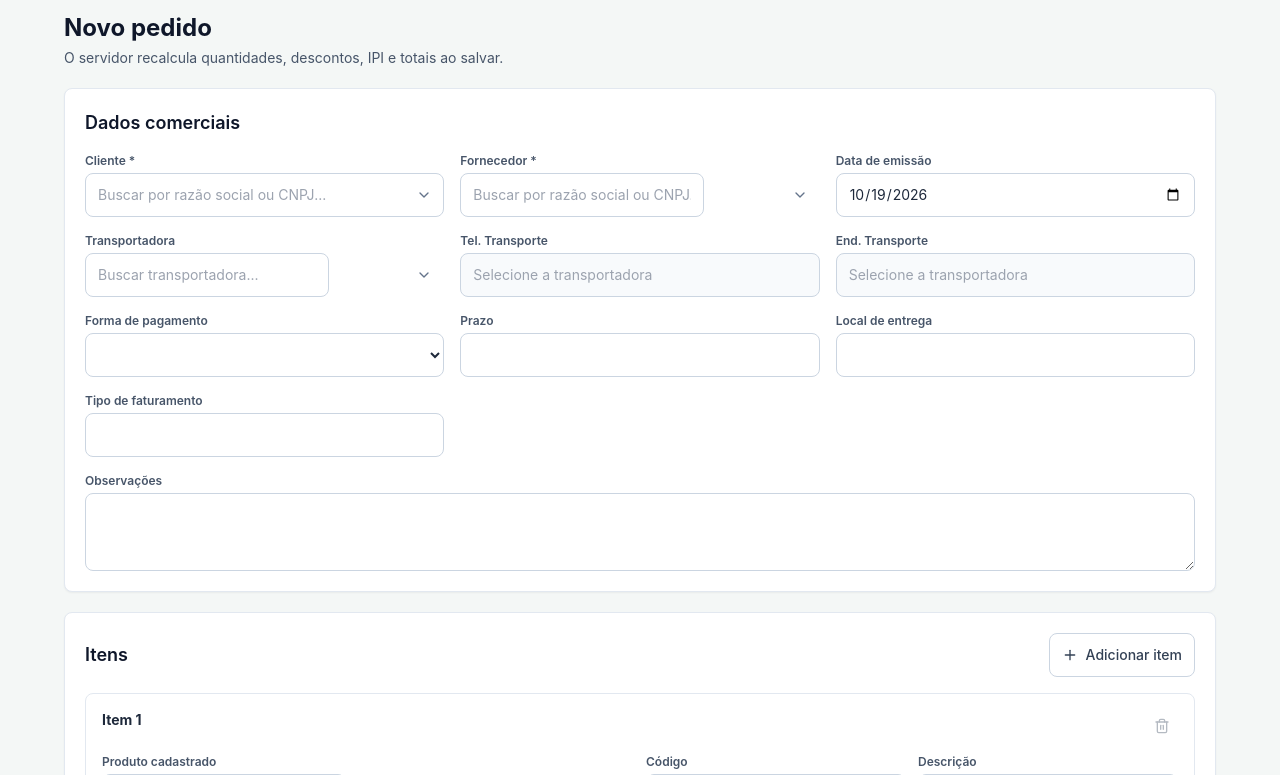
Test: PedidoForm — forma de pagamento › oferece a lista canônica e mantém o valor legado herdado do cliente
Expected: the dropdown labelled "Fornecedor *" is shown, 460,173 -> 704,217
Focus the dropdown labelled "Cliente" at (265, 195), box 85,173 -> 444,217
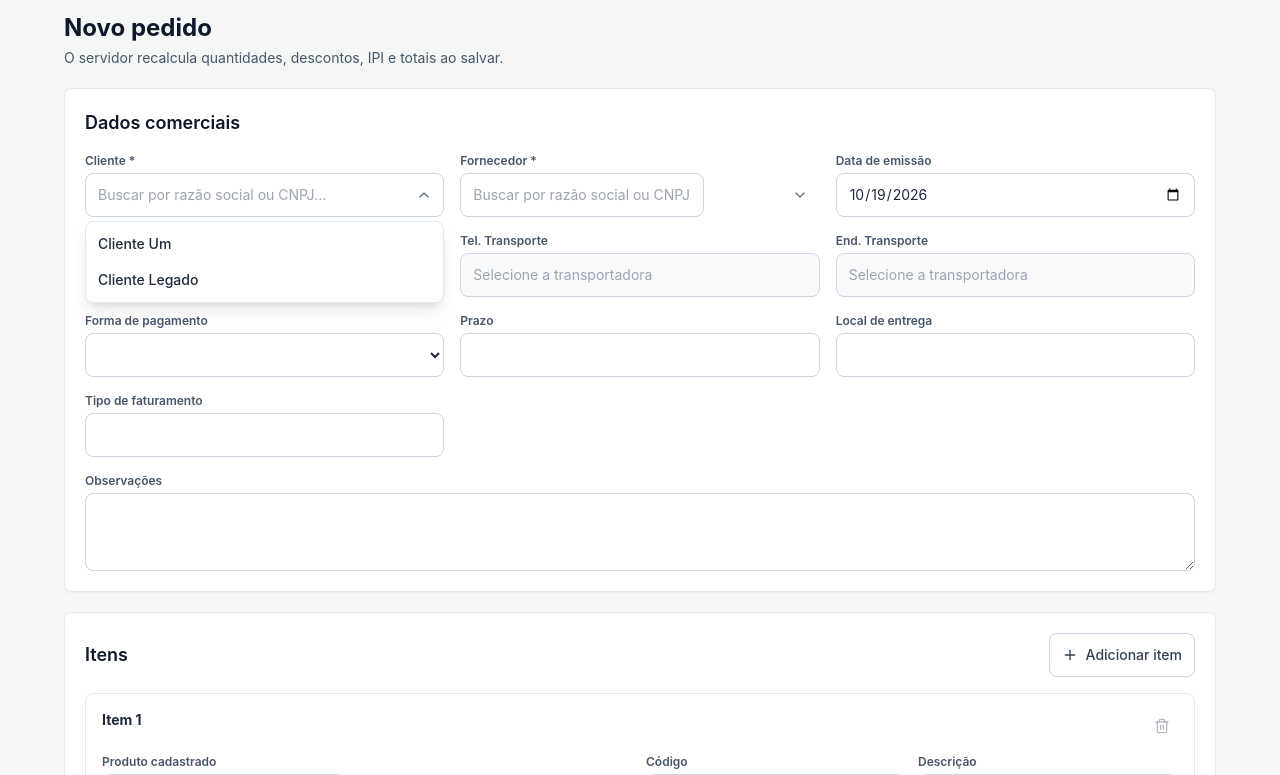
Click the option "Cliente Legado".
click(148, 280)  # box 98,271 -> 198,288
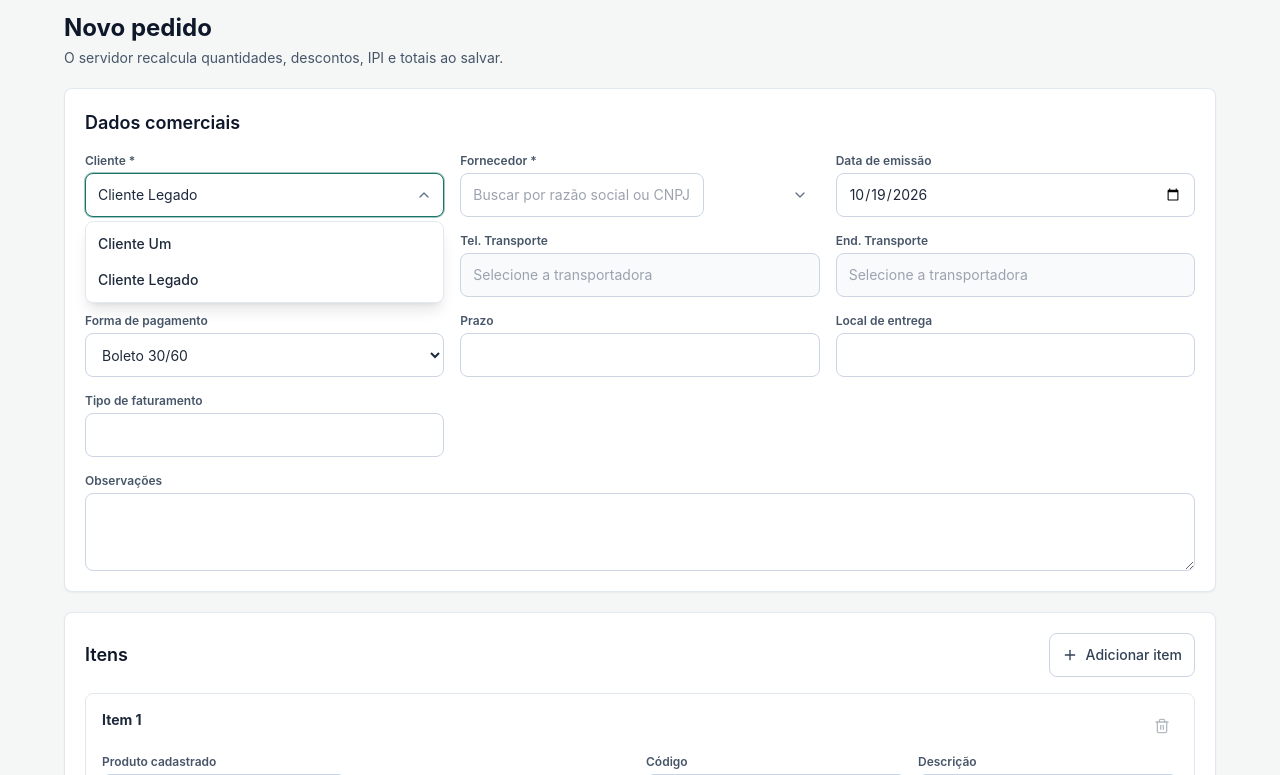
Result: the dropdown labelled "Forma de pagamento" shows "Boleto 30/60" at 85,333 -> 444,377
